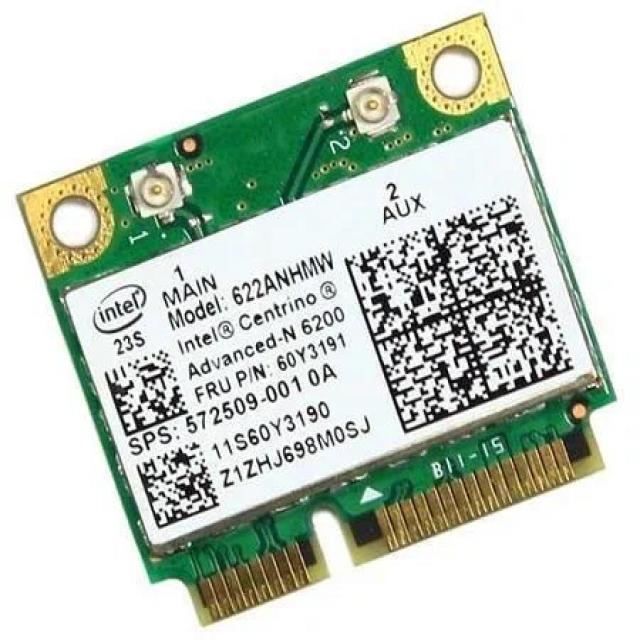datamatrix: (342, 190, 578, 437), (135, 439, 223, 530), (104, 348, 192, 437)
